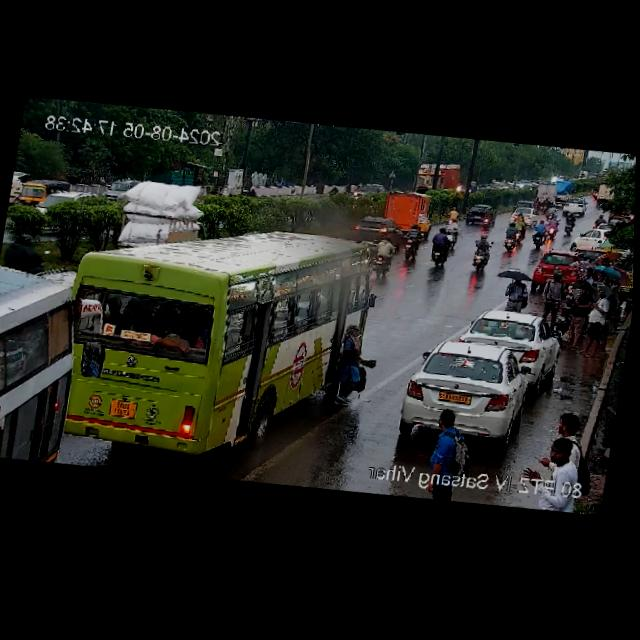bus: (40, 206, 386, 452), (0, 266, 105, 467)
car: (394, 330, 548, 449), (462, 304, 562, 376), (531, 247, 579, 286), (349, 213, 396, 246), (569, 223, 615, 256), (18, 176, 62, 209), (465, 202, 498, 230), (100, 176, 130, 202), (558, 194, 590, 217), (358, 182, 385, 202), (512, 198, 534, 210), (524, 208, 537, 227)
motorcycle: (6, 227, 47, 270), (466, 234, 498, 273), (427, 228, 458, 267), (368, 235, 395, 271), (528, 218, 553, 251), (500, 223, 526, 252), (402, 223, 427, 250), (559, 210, 579, 236), (446, 219, 460, 249), (533, 196, 551, 213), (481, 207, 494, 228), (548, 214, 561, 235), (546, 205, 557, 222), (515, 212, 526, 225), (594, 214, 605, 226), (329, 185, 340, 196), (448, 208, 458, 220), (591, 187, 599, 198), (343, 183, 351, 194), (247, 189, 257, 196)
person: (414, 409, 480, 477), (538, 410, 591, 491), (329, 325, 370, 407), (575, 286, 619, 359), (532, 439, 588, 489), (566, 284, 596, 351), (535, 271, 573, 322), (502, 269, 536, 313)
truck: (102, 172, 208, 260), (379, 188, 438, 239), (417, 158, 462, 196), (535, 177, 573, 203), (595, 184, 614, 209)
